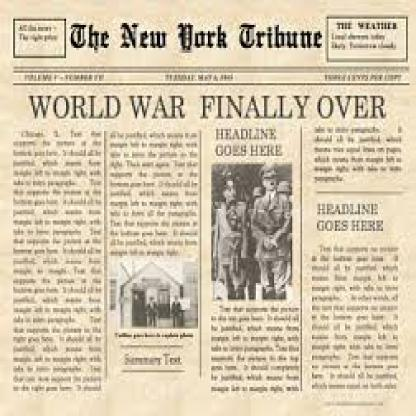Paper: (0, 8, 408, 416)
